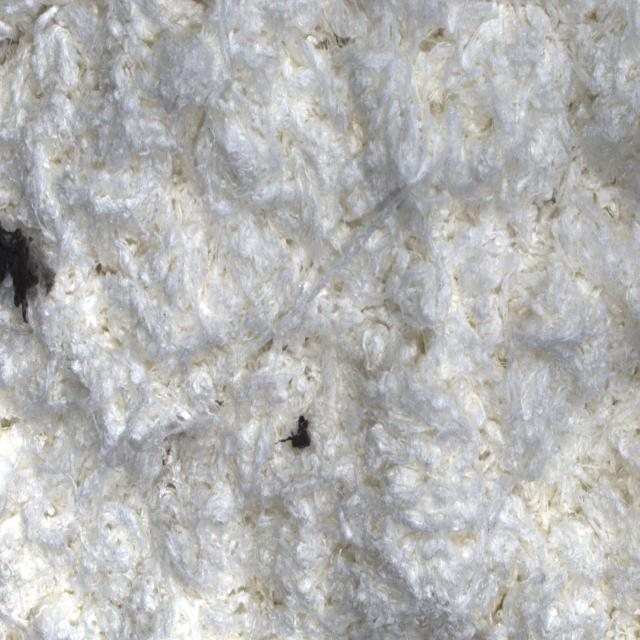dust: (0, 202, 67, 340), (273, 401, 327, 474)
